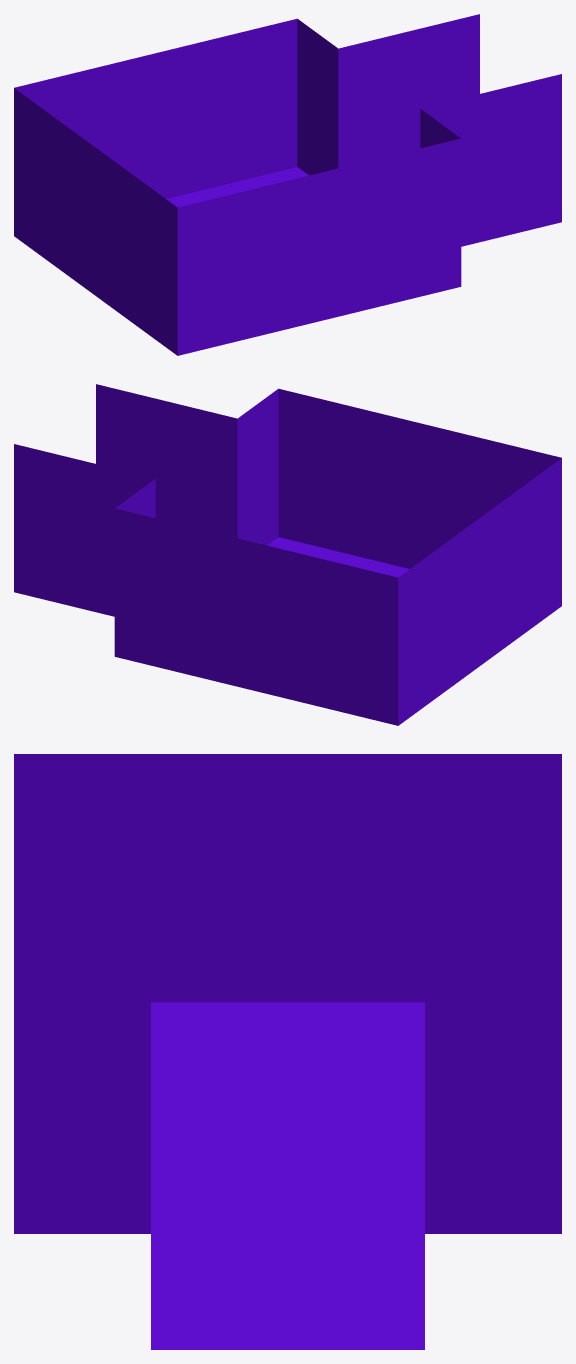
Rendered from deadend_90.glb.
3 renders of one model, top to bottom at view 1: azimuth 30°, elevation 25°; view 2: azimuth 150°, elevation 25°; view 3: azimuth 270°, elevation 25°, orthographic. The views are drawn at different scales.
Visible parts, largest first — view 1: deadend_90; view 2: deadend_90; view 3: deadend_90.
Boxes of the visible parts, box(x1,y1,x2,y2) form: deadend_90: box(14, 14, 561, 355); deadend_90: box(14, 384, 561, 725); deadend_90: box(14, 754, 561, 1349).
Size of the model in its own units: 3 by 1 by 2.
